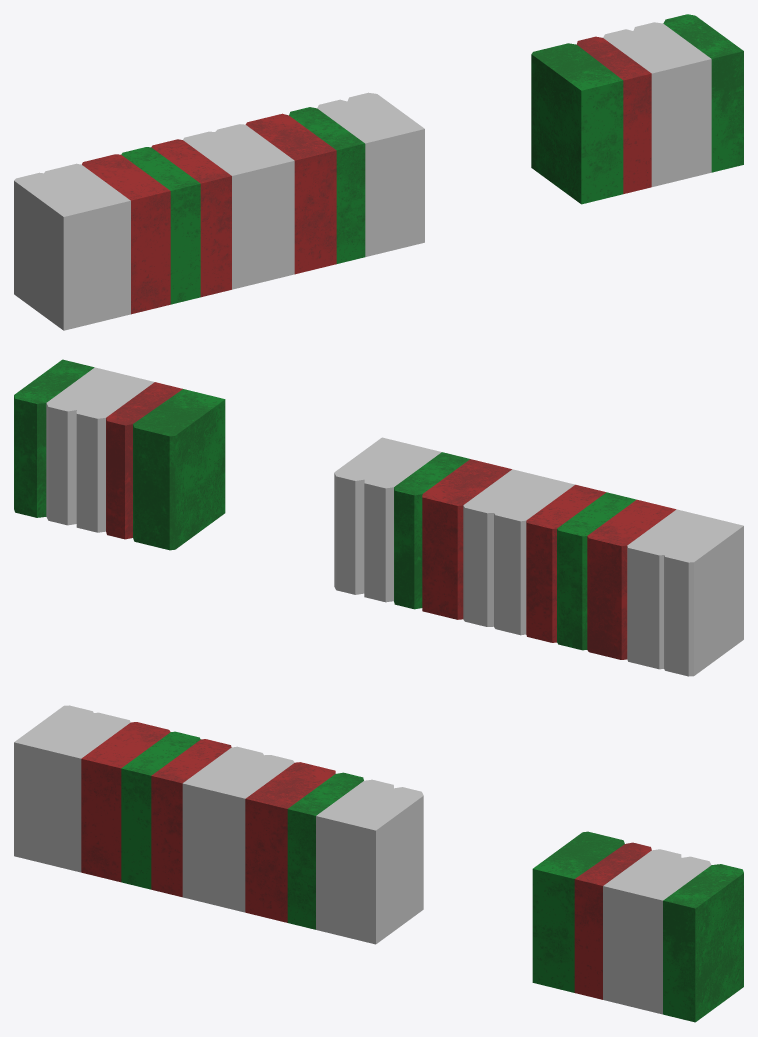
Rendered from book_many_3.fbx.
The picture shows the model from 3 angles, top to bottom: view 1: azimuth 30°, elevation 25°; view 2: azimuth 150°, elevation 25°; view 3: azimuth 330°, elevation 25°; orthographic projection.
Visible parts, largest first — view 1: Cube.014; view 2: Cube.014; view 3: Cube.014.
Part boxes in pixels (x1,y1,x2,y2): Cube.014: (14, 14, 743, 330); Cube.014: (14, 359, 743, 676); Cube.014: (14, 705, 743, 1022).
Bounding box in the file's own units: 812 × 130 × 107.
